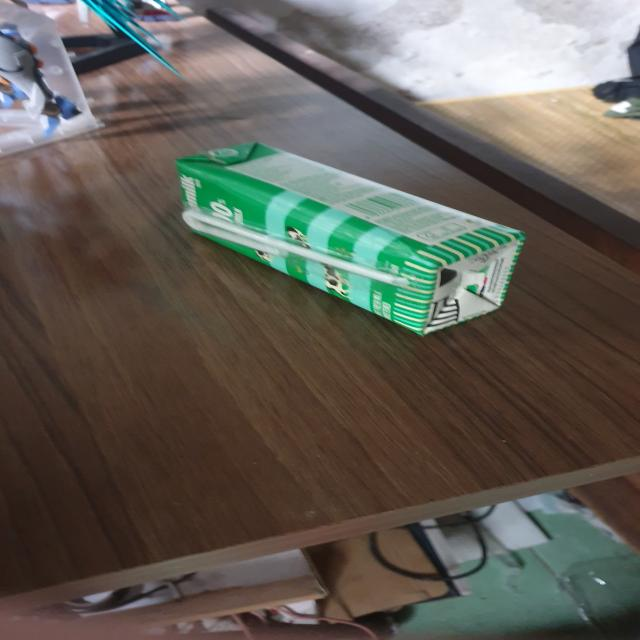Vina: (173, 140, 531, 342)
